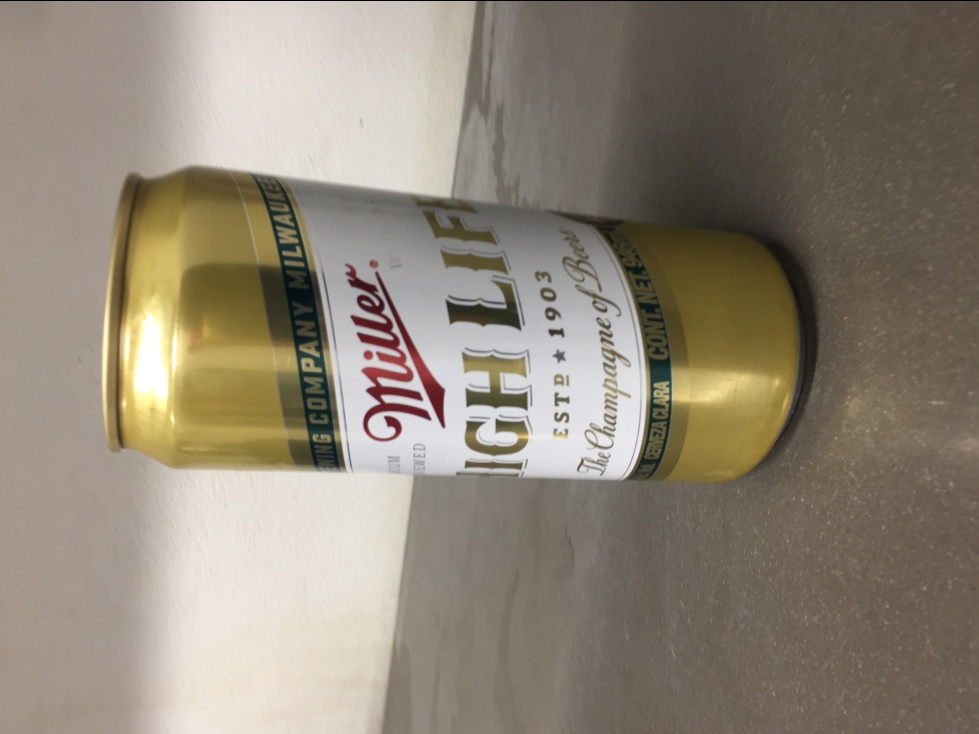miller: (99, 159, 808, 492)
